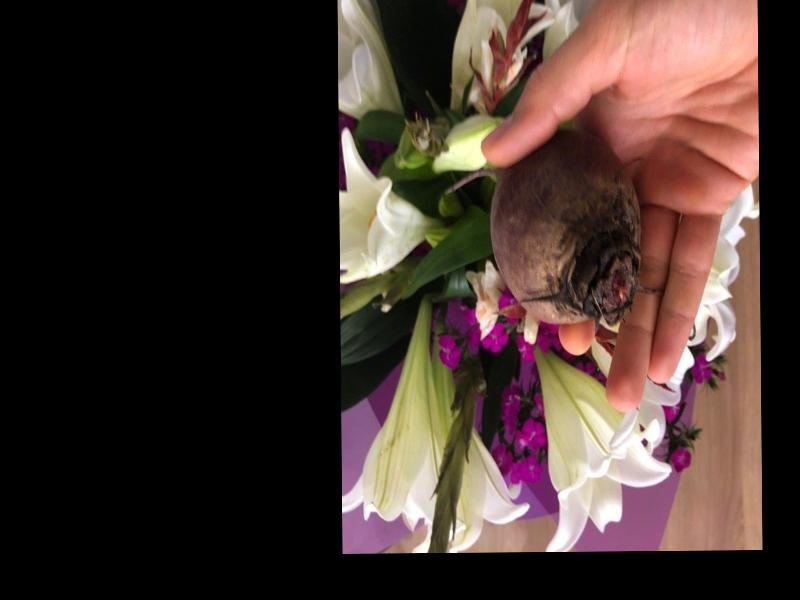Beet: (442, 128, 642, 325)
